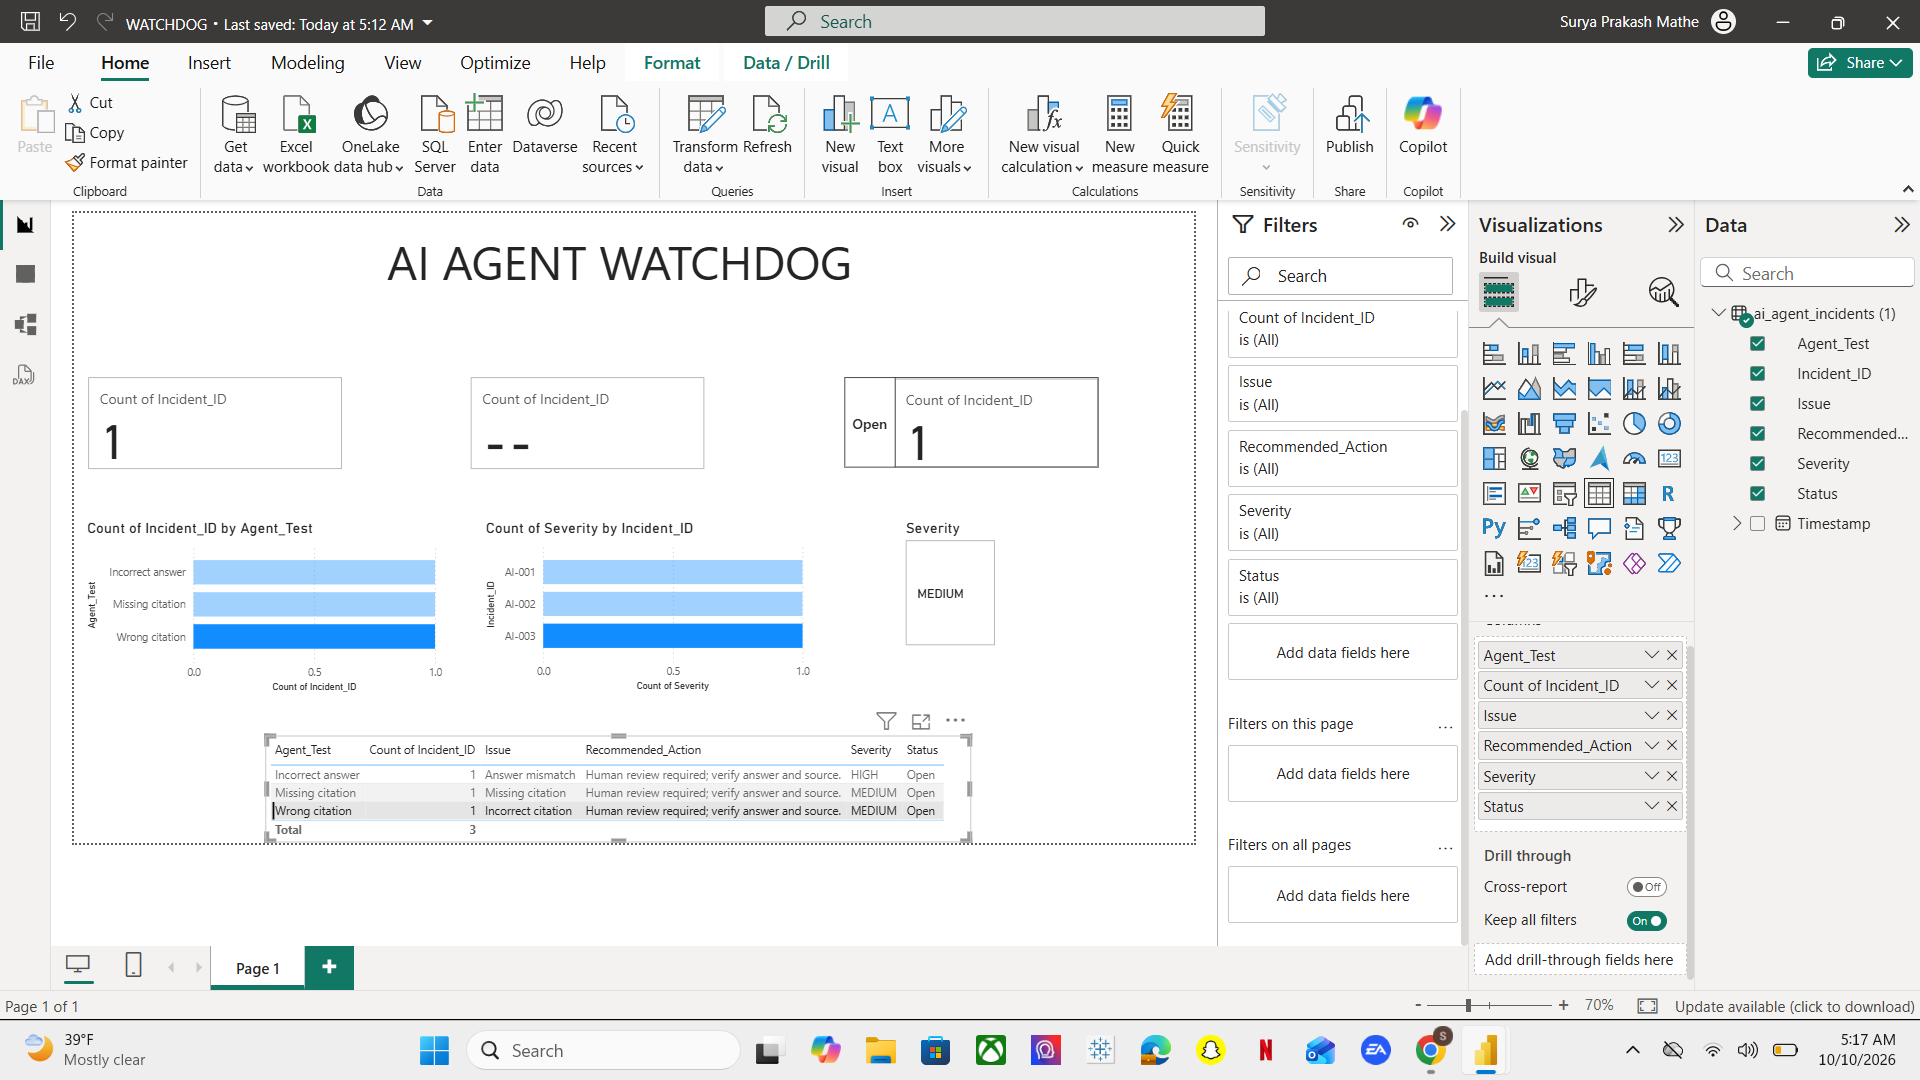

This screenshot's page, from the dashboard's own definition file:
{"tool":"powerbi","page":{"name":"Page 1","canvas":[1280,720],"ordinal":0},"visuals":[{"type":"barChart","fields":{"Category":["ai_agent_incidents (1).Severity"],"Y":["CountNonNull(ai_agent_incidents (1).Incident_ID)"]},"box":[12.9,461.4,412.9,150],"z":0},{"type":"cardVisual","fields":{"Data":["CountNonNull(ai_agent_incidents (1).Incident_ID)"]},"box":[11.4,182.9,190,114.3],"z":1000},{"type":"barChart","fields":{"Category":["ai_agent_incidents (1).Agent_Test"],"Y":["CountNonNull(ai_agent_incidents (1).Incident_ID)"]},"box":[11.4,311.4,415.7,150],"z":2000},{"type":"tableEx","fields":{"Values":["ai_agent_incidents (1).Agent_Test","ai_agent_incidents (1).Incident_ID","ai_agent_incidents (1).Issue","ai_agent_incidents (1).Recommended_Action","ai_agent_incidents (1).Severity","ai_agent_incidents (1).Status"]},"box":[94.3,597.1,807.1,122.9],"z":3000},{"type":"cardVisual","fields":{"Data":["CountNonNull(ai_agent_incidents (1).Incident_ID)"]},"box":[221.4,182.9,181.4,114.3],"z":4000},{"type":"advancedSlicerVisual","fields":{"Values":["ai_agent_incidents (1).Status"]},"box":[425.7,182.9,248.6,114.3],"z":5000},{"type":"textbox","box":[135.8,13.7,975.6,149.6],"z":5001},{"type":"advancedSlicerVisual","fields":{"Values":["ai_agent_incidents (1).Severity"]},"box":[472.9,332.9,307.1,75.7],"z":5002},{"type":"donutChart","fields":{"Category":["ai_agent_incidents (1).Severity"],"Y":["CountNonNull(ai_agent_incidents (1).Incident_ID)"]},"box":[930,522.9,270,197.1],"z":5003},{"type":"clusteredBarChart","fields":{"Category":["ai_agent_incidents (1).Review_Status"],"Y":["CountNonNull(ai_agent_incidents (1).Incident_ID)"]},"box":[695.7,182.9,168.6,150],"z":5004},{"type":"clusteredBarChart","fields":{"Category":["ai_agent_incidents (1).Agent_Test"],"Y":["CountNonNull(ai_agent_incidents (1).Incident_ID)"]},"box":[890,172.9,390,138.6],"z":5005}]}

Visuals, with their boxes on the page's 1280x720 design canvas (x1, y1, x2, y2). These are canvas units, not pixel positions in the 1920x1080 screenshot, which may show the page scaled, cropped or inside an application window:
barChart - ai_agent_incidents (1).Severity x CountNonNull(ai_agent_incidents (1).Incident_ID): (left=13, top=461, right=426, bottom=611)
cardVisual - CountNonNull(ai_agent_incidents (1).Incident_ID): (left=11, top=183, right=201, bottom=297)
barChart - ai_agent_incidents (1).Agent_Test x CountNonNull(ai_agent_incidents (1).Incident_ID): (left=11, top=311, right=427, bottom=461)
tableEx - ai_agent_incidents (1).Agent_Test x ai_agent_incidents (1).Incident_ID: (left=94, top=597, right=901, bottom=720)
cardVisual - CountNonNull(ai_agent_incidents (1).Incident_ID): (left=221, top=183, right=403, bottom=297)
advancedSlicerVisual - ai_agent_incidents (1).Status: (left=426, top=183, right=674, bottom=297)
textbox: (left=136, top=14, right=1111, bottom=163)
advancedSlicerVisual - ai_agent_incidents (1).Severity: (left=473, top=333, right=780, bottom=409)
donutChart - ai_agent_incidents (1).Severity x CountNonNull(ai_agent_incidents (1).Incident_ID): (left=930, top=523, right=1200, bottom=720)
clusteredBarChart - ai_agent_incidents (1).Review_Status x CountNonNull(ai_agent_incidents (1).Incident_ID): (left=696, top=183, right=864, bottom=333)
clusteredBarChart - ai_agent_incidents (1).Agent_Test x CountNonNull(ai_agent_incidents (1).Incident_ID): (left=890, top=173, right=1280, bottom=312)
